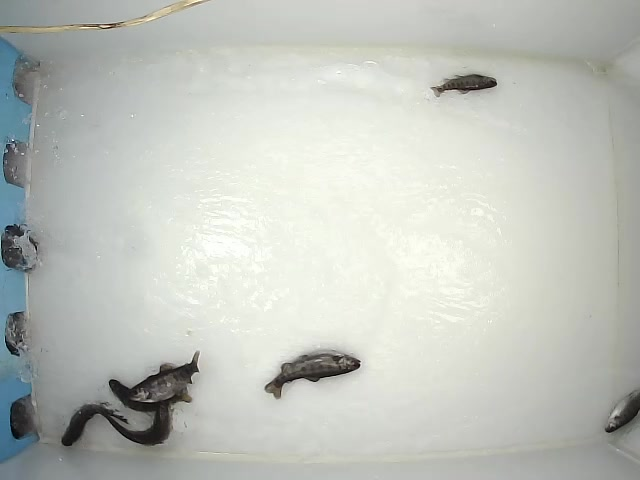fish: (263, 351, 363, 401), (127, 350, 203, 402), (103, 402, 175, 449), (106, 377, 194, 413), (59, 402, 117, 448), (428, 72, 499, 98)
